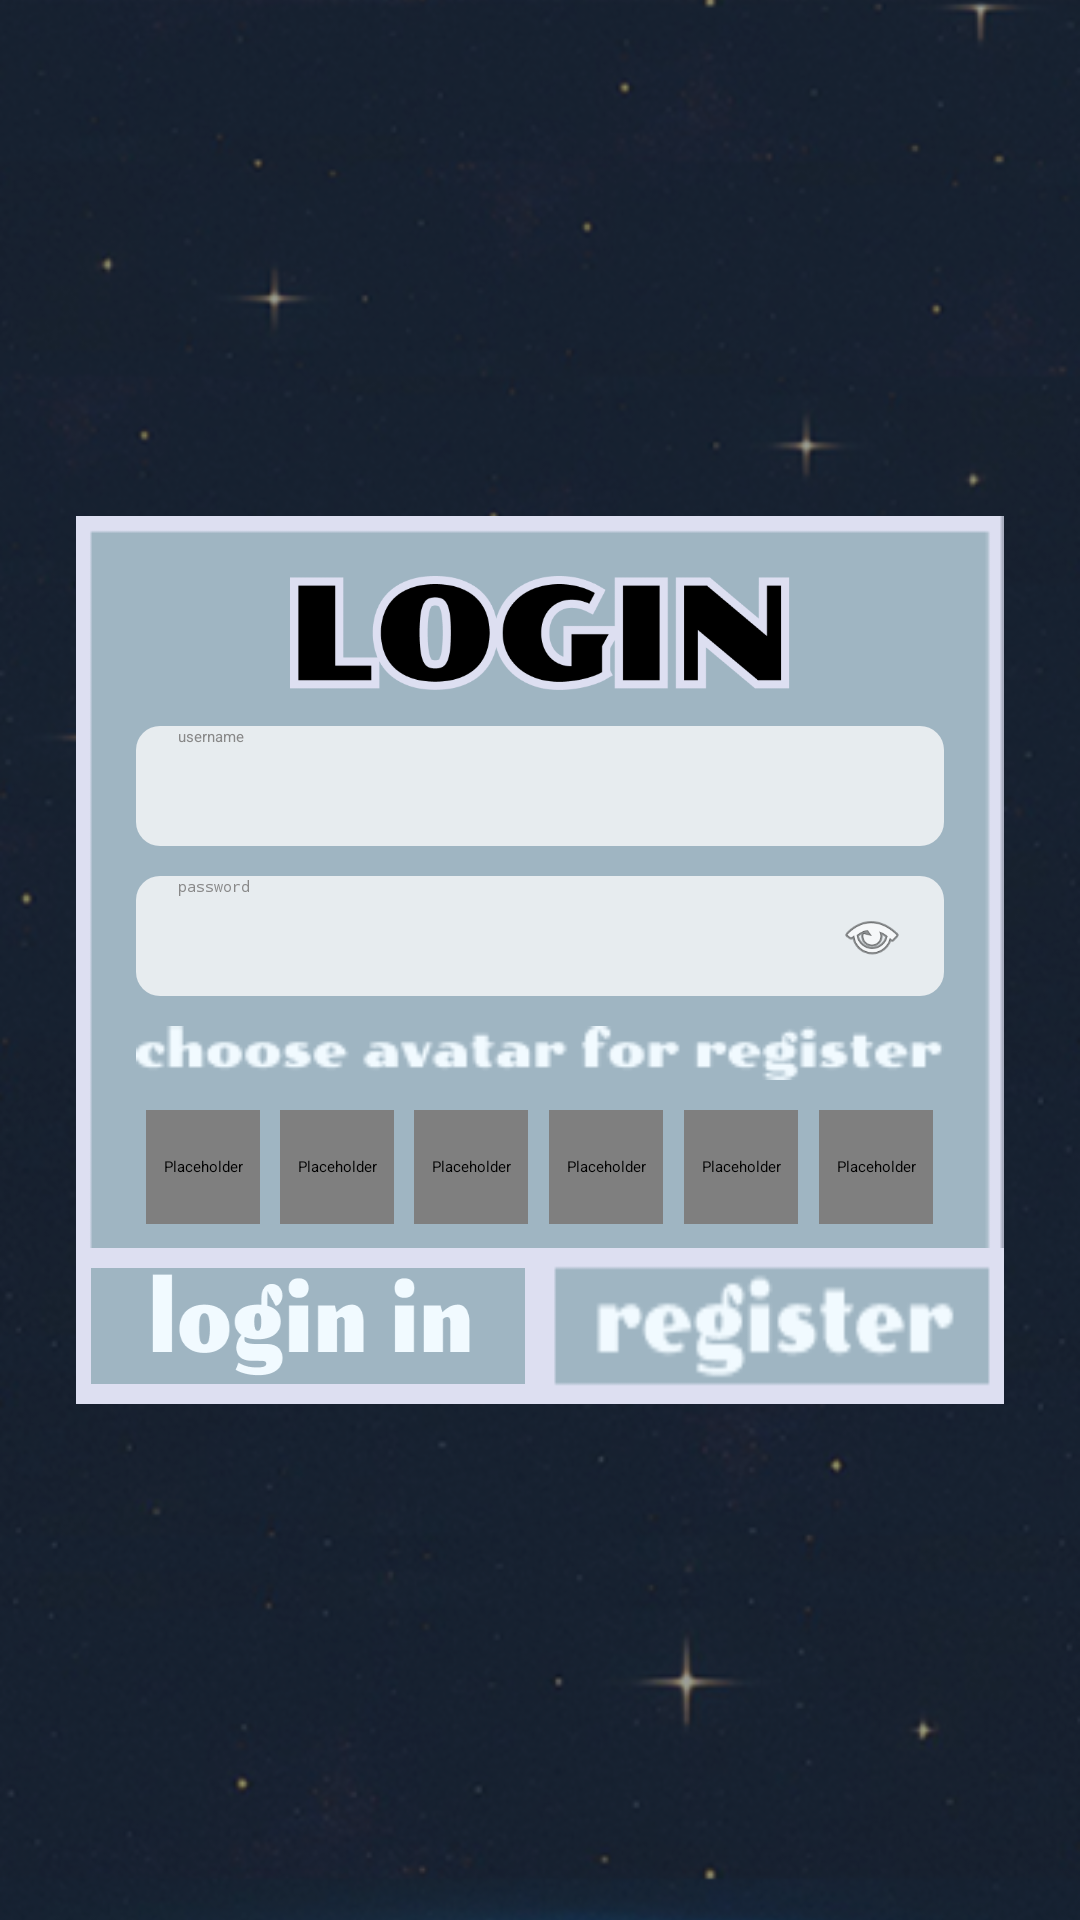

Locate icon controls on the screen. Image size 1080w x 1920h, boxes as (x1, y1, x2, y2).
view: (845, 921, 899, 955)
